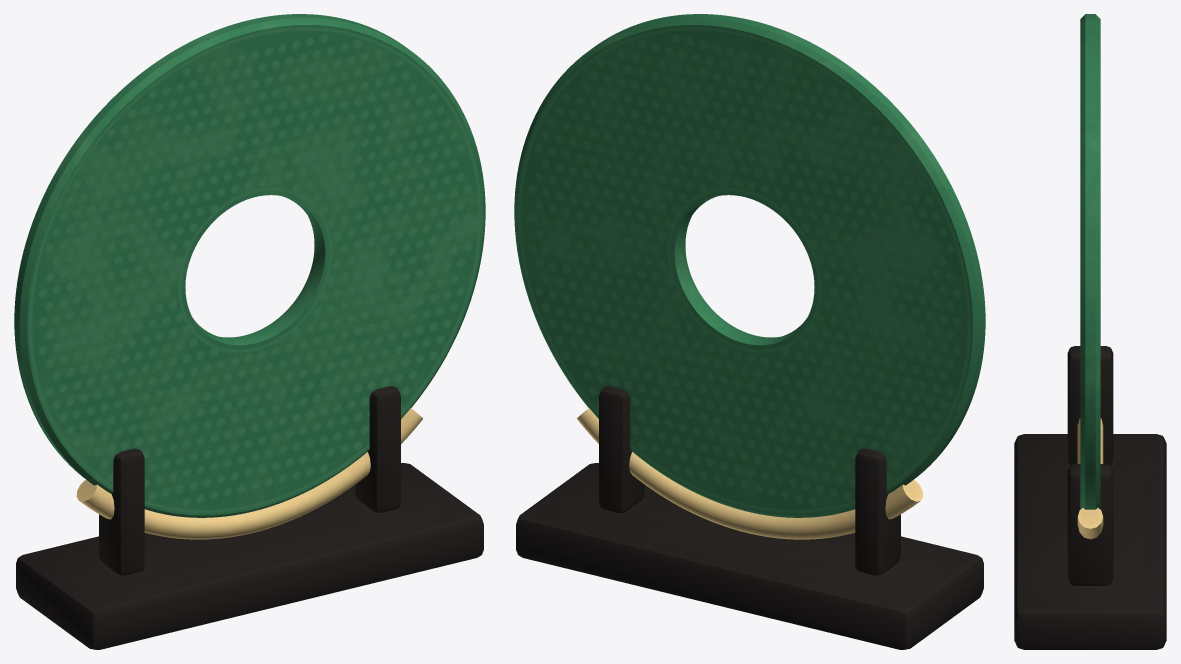
File: bi_disc.glb
3 views of the same model, side by side, from view 1: azimuth 30°, elevation 25°; view 2: azimuth 150°, elevation 25°; view 3: azimuth 270°, elevation 25° (orthographic). The views are drawn at different scales.
Visible parts, largest first — view 1: bi_disc; view 2: bi_disc; view 3: bi_disc.
Boxes of the visible parts, bbox=[...] form: bi_disc: bbox=[14, 14, 485, 649]; bi_disc: bbox=[514, 14, 985, 649]; bi_disc: bbox=[1014, 14, 1166, 649].
Bounding box in the file's own units: 0.2 × 0.228 × 0.06.
Materials: 1 (1 with a texture image).
